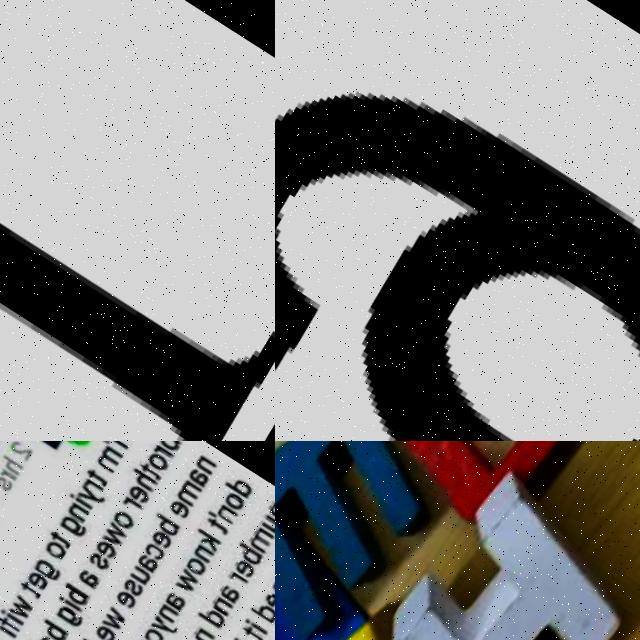2: (6, 441, 33, 462)
6: (275, 8, 640, 441)
A: (184, 464, 211, 488), (130, 551, 157, 575), (212, 582, 239, 606), (73, 567, 98, 590), (158, 590, 184, 612), (31, 633, 57, 640)
B: (54, 582, 88, 610), (147, 512, 180, 539), (231, 541, 263, 568), (32, 618, 63, 640), (149, 441, 181, 454)
C: (138, 540, 164, 564)
D: (191, 602, 225, 630), (220, 472, 254, 499), (245, 598, 275, 625)
E: (163, 497, 191, 522), (227, 556, 254, 580), (90, 538, 116, 562), (109, 588, 135, 612), (124, 482, 149, 506), (22, 569, 46, 592), (147, 528, 172, 550), (88, 622, 114, 640), (257, 589, 275, 614), (266, 578, 275, 601)
F: (0, 612, 16, 633)
G: (27, 556, 61, 584), (50, 603, 82, 630), (55, 514, 86, 540)
H: (329, 453, 640, 640), (125, 468, 155, 492), (0, 454, 23, 476)
I: (0, 226, 275, 441), (66, 492, 90, 510), (53, 594, 77, 612), (0, 606, 19, 626), (240, 619, 263, 635), (0, 619, 12, 639), (102, 441, 126, 449), (228, 635, 253, 640)
K: (188, 527, 221, 554)
M: (275, 441, 471, 640), (171, 478, 203, 509), (242, 524, 274, 555), (93, 444, 123, 474)
N: (211, 502, 237, 526), (62, 501, 87, 524), (150, 601, 175, 624), (187, 540, 212, 563), (192, 454, 217, 475), (206, 596, 229, 616), (185, 624, 211, 640), (263, 499, 275, 520)
O: (343, 441, 628, 547), (179, 554, 206, 578), (38, 538, 65, 562), (144, 449, 170, 473), (108, 508, 134, 532), (219, 490, 244, 513), (135, 624, 162, 640)
R: (119, 495, 142, 513), (79, 476, 101, 494), (150, 442, 172, 460), (224, 570, 244, 586), (0, 467, 16, 483)
S: (83, 549, 109, 572), (117, 578, 142, 598), (0, 474, 12, 492)
T: (43, 528, 70, 550), (202, 516, 228, 536), (13, 578, 39, 598), (81, 467, 106, 487), (136, 460, 161, 480), (236, 623, 262, 640)
U: (124, 564, 150, 587), (254, 510, 275, 534)
W: (168, 566, 199, 596), (96, 520, 127, 550), (95, 606, 125, 634), (4, 594, 32, 621)
Y: (145, 614, 176, 640), (74, 484, 104, 509)
